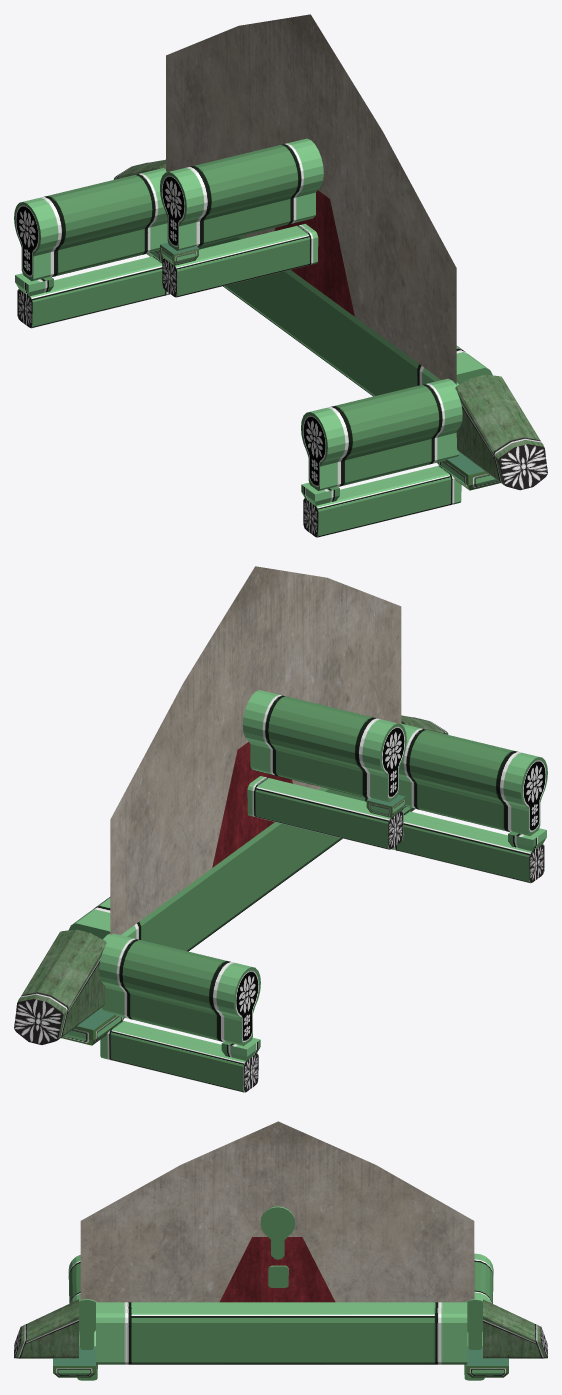
The model's file is SM_R_MiddleBeam_4.fbx.
3 views of the same model, one above another, from view 1: azimuth 30°, elevation 25°; view 2: azimuth 150°, elevation 25°; view 3: azimuth 270°, elevation 25° (orthographic). The views are drawn at different scales.
Visible parts, largest first — view 1: SM_R_MiddleBeam_4; view 2: SM_R_MiddleBeam_4; view 3: SM_R_MiddleBeam_4.
Boxes of the visible parts, box(x1,y1,x2,y2) form: SM_R_MiddleBeam_4: box(14, 14, 547, 537); SM_R_MiddleBeam_4: box(14, 566, 547, 1092); SM_R_MiddleBeam_4: box(14, 1121, 547, 1380).
Bounding box in the file's own units: 117 × 412 × 220.
5 materials, 5 textured.
